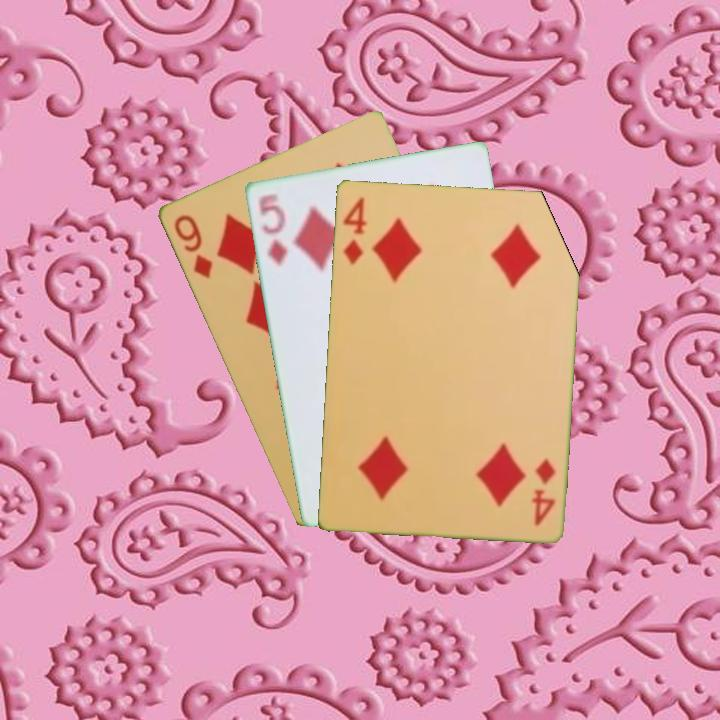4d: (527, 454, 558, 528), (339, 193, 369, 267)
5d: (254, 189, 290, 269)
9d: (169, 210, 215, 281)
